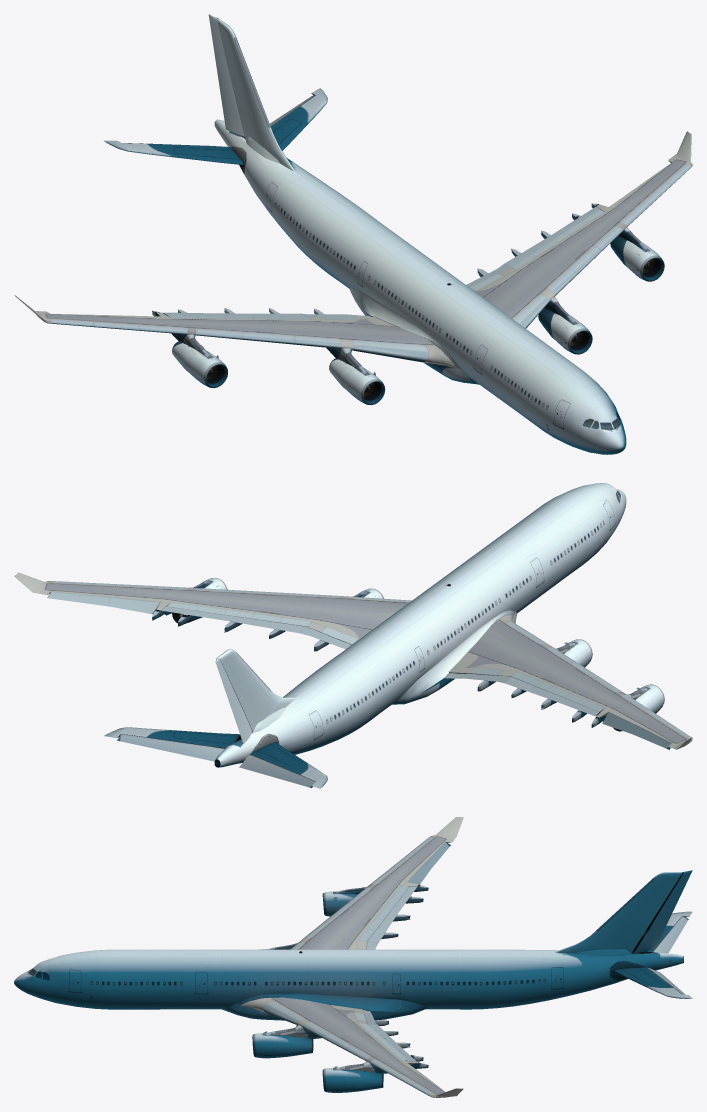
File: aircraft.glb
The picture shows the model from 3 angles, top to bottom: view 1: azimuth 30°, elevation 25°; view 2: azimuth 150°, elevation 25°; view 3: azimuth 270°, elevation 25°; orthographic projection. The views are drawn at different scales.
Visible parts, largest first — view 1: node_2, node_5, node_4; view 2: node_2, node_5, node_4; view 3: node_2, node_4, node_5.
Part boxes in pixels (x1,y1,x2,y2): node_2: (51,14,691,454); node_5: (470,131,692,318); node_4: (14,295,456,368); node_2: (47,483,690,788); node_5: (14,572,409,644); node_4: (449,614,692,749); node_2: (14,837,692,1095); node_4: (297,817,463,949); node_5: (241,997,463,1097).
Size of the model in its own units: 60.29 by 14.88 by 63.69.
Materials: 3 (3 with a texture image).
